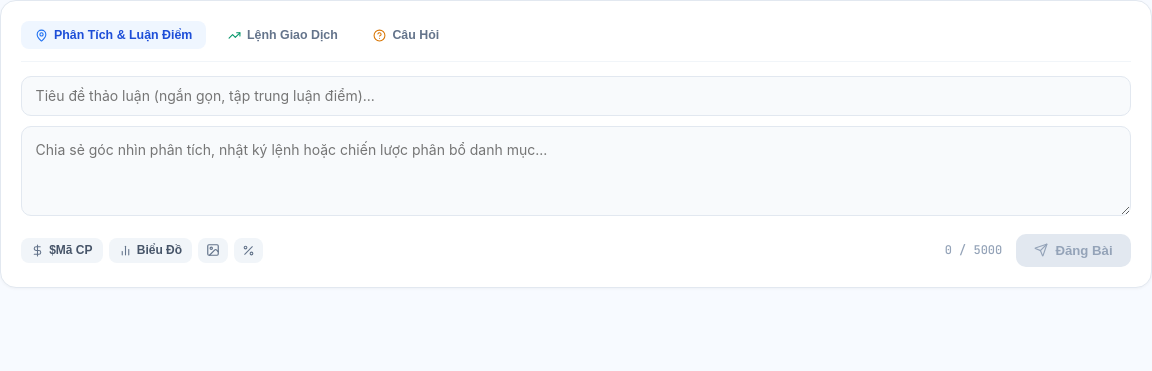
Scenario: PostComposer Component (AC-004) › displays service unavailable banner on 503 outage
Replace the text in the text box with test id "post-composer-textarea" with "Outage posting test" at (576, 171), box [21,126,1131,216]
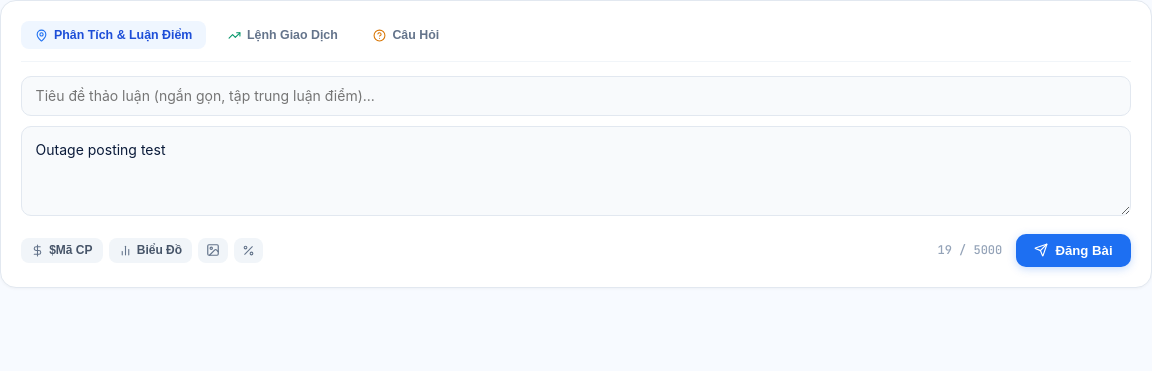
Click the button with test id "post-composer-submit-btn" at (1073, 250), box [1016,234,1131,267]
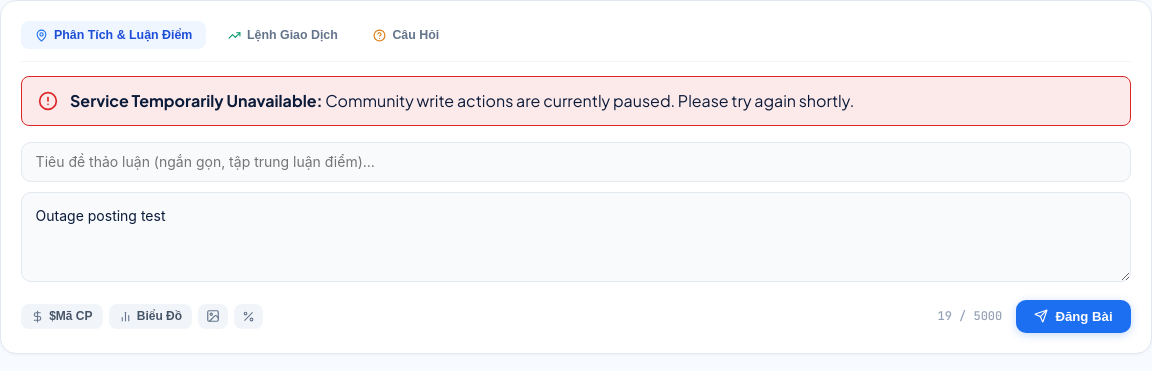
Check: the message with test id "community-service-unavailable-banner" is shown, box [21,76,1131,126]
